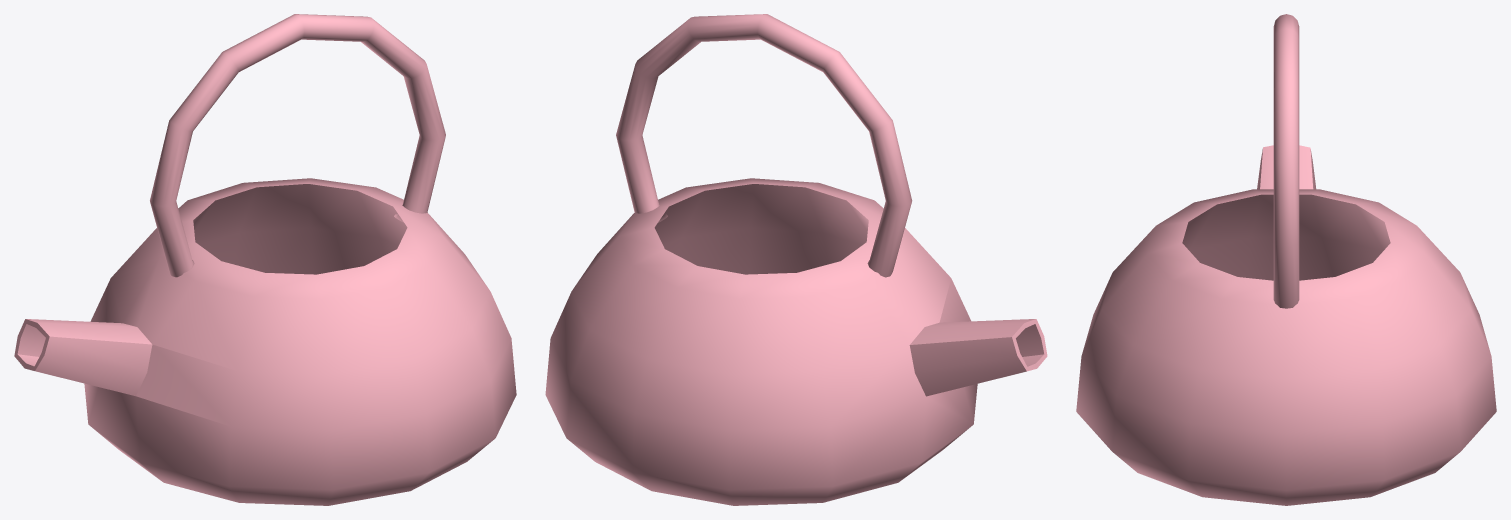
The model's file is kettle.fbx.
3 views of the same model, side by side, from view 1: azimuth 30°, elevation 25°; view 2: azimuth 150°, elevation 25°; view 3: azimuth 270°, elevation 25° (orthographic). The views are drawn at different scales.
Visible parts, largest first — view 1: pTorus3; view 2: pTorus3; view 3: pTorus3.
Part boxes in pixels (left/top/right/bottom): pTorus3: left=14, top=14, right=516, bottom=505; pTorus3: left=545, top=14, right=1047, bottom=505; pTorus3: left=1076, top=14, right=1496, bottom=505.
Bounding box in the file's own units: 2.54 × 2.17 × 2.07.
1 material, 1 textured.
